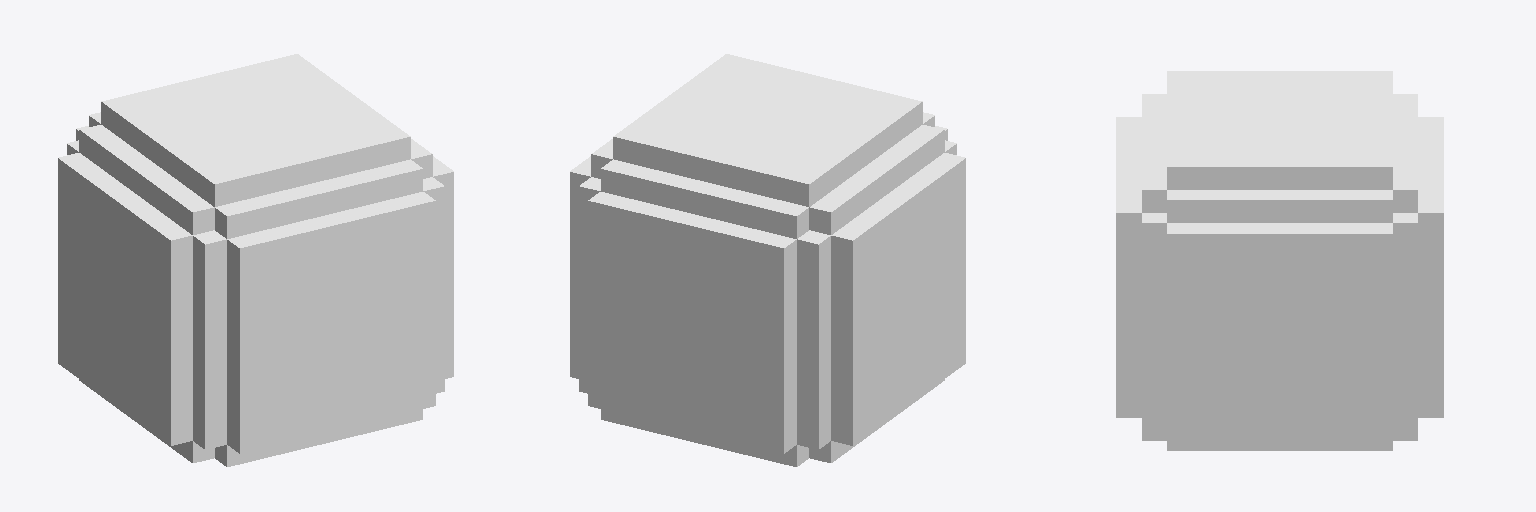
Rendered from Boulder_Obstacle.obj.
The picture shows the model from 3 angles: view 1: azimuth 30°, elevation 25°; view 2: azimuth 150°, elevation 25°; view 3: azimuth 270°, elevation 25°; orthographic projection.
Size of the model in its own units: 13 by 12 by 13.